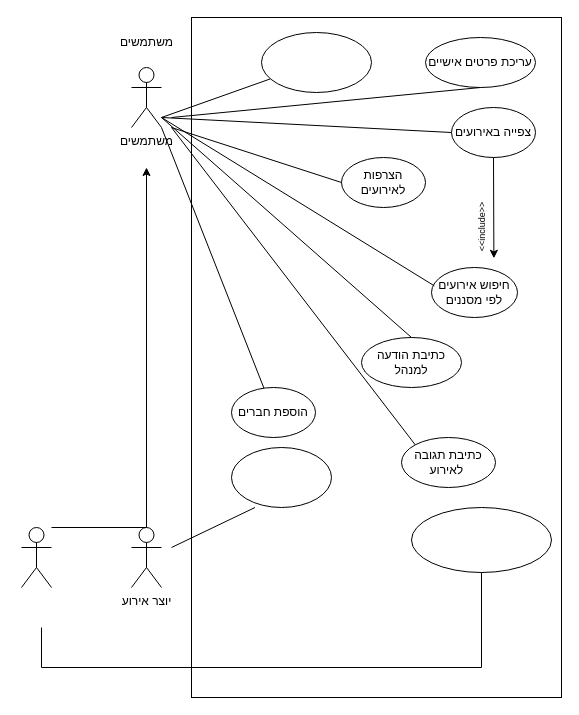
Some shapes in this 579 by 715 pixel diagram are drawn without their labels. Here are the shapes that lost their labels. From the top down, the centre of each, then its label:
point (316, 62): יצירת משתמש חדש התחברות לאתר
point (281, 477): ניהול ויצירת אירועים
point (36, 557): מנהלים
point (481, 539): מחיקת אירועים. חסימה משתמשים (עבור מנהלים בלבד)
